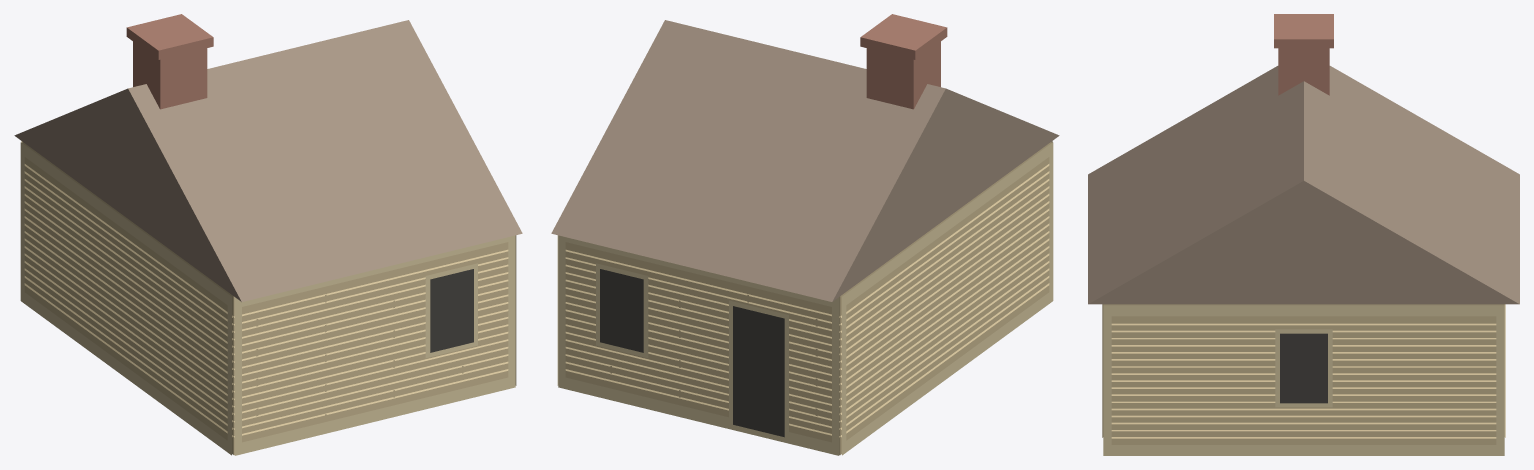
File: recon_1835_south_d3_008__inferred_1835.glb
3 views of the same model, side by side, from view 1: azimuth 30°, elevation 25°; view 2: azimuth 150°, elevation 25°; view 3: azimuth 270°, elevation 25° (orthographic). The views are drawn at different scales.
Visible parts, largest first — view 1: recon_1835_south_d3_008__inferred_1835; view 2: recon_1835_south_d3_008__inferred_1835; view 3: recon_1835_south_d3_008__inferred_1835.
Part boxes in pixels (bbox=[...]): recon_1835_south_d3_008__inferred_1835: bbox=[14, 14, 522, 455]; recon_1835_south_d3_008__inferred_1835: bbox=[551, 14, 1059, 455]; recon_1835_south_d3_008__inferred_1835: bbox=[1088, 14, 1519, 455].
Bounding box in the file's own units: 5.08 × 5.7 × 7.02.
